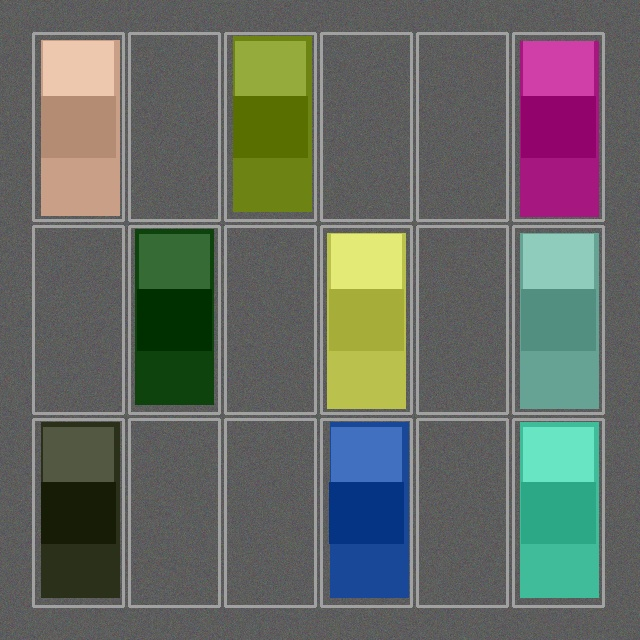space-empty: (131, 35, 217, 218), (323, 35, 409, 218), (419, 35, 505, 218), (35, 228, 121, 411), (227, 228, 313, 411), (419, 228, 505, 411), (131, 421, 217, 604), (227, 421, 313, 604), (419, 421, 505, 604)
space-occupied: (35, 35, 121, 218), (227, 35, 313, 218), (515, 35, 601, 218), (131, 228, 217, 411), (323, 228, 409, 411), (515, 228, 601, 411), (35, 421, 121, 604), (323, 421, 409, 604), (515, 421, 601, 604)
